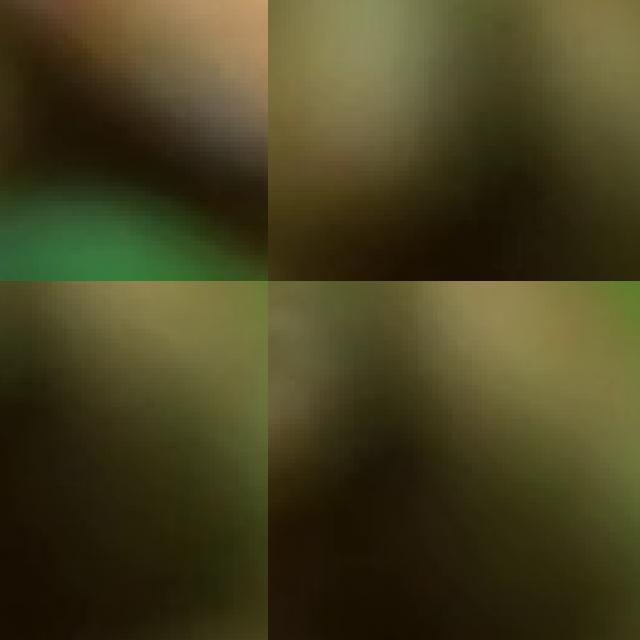fish: (0, 0, 268, 281), (268, 281, 354, 631)
